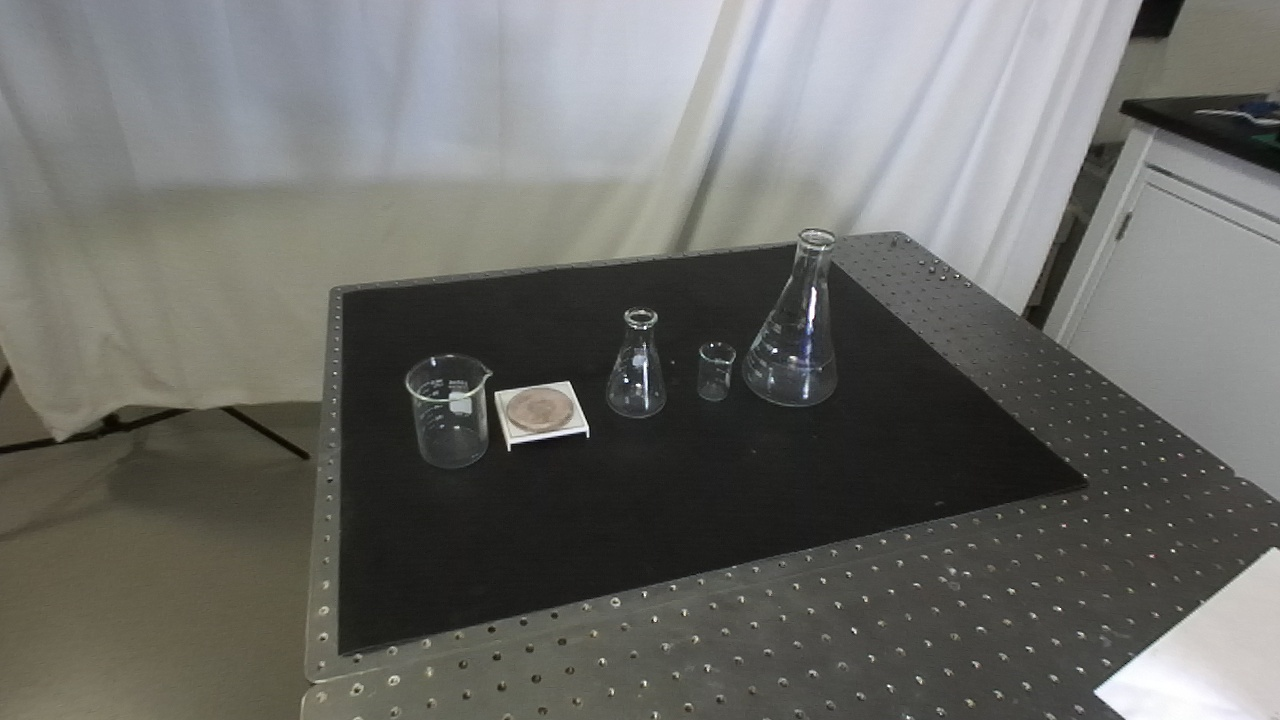glass: (738, 224, 843, 412), (401, 351, 493, 471), (603, 306, 672, 424), (695, 339, 737, 407)
plate: (490, 376, 595, 452)
